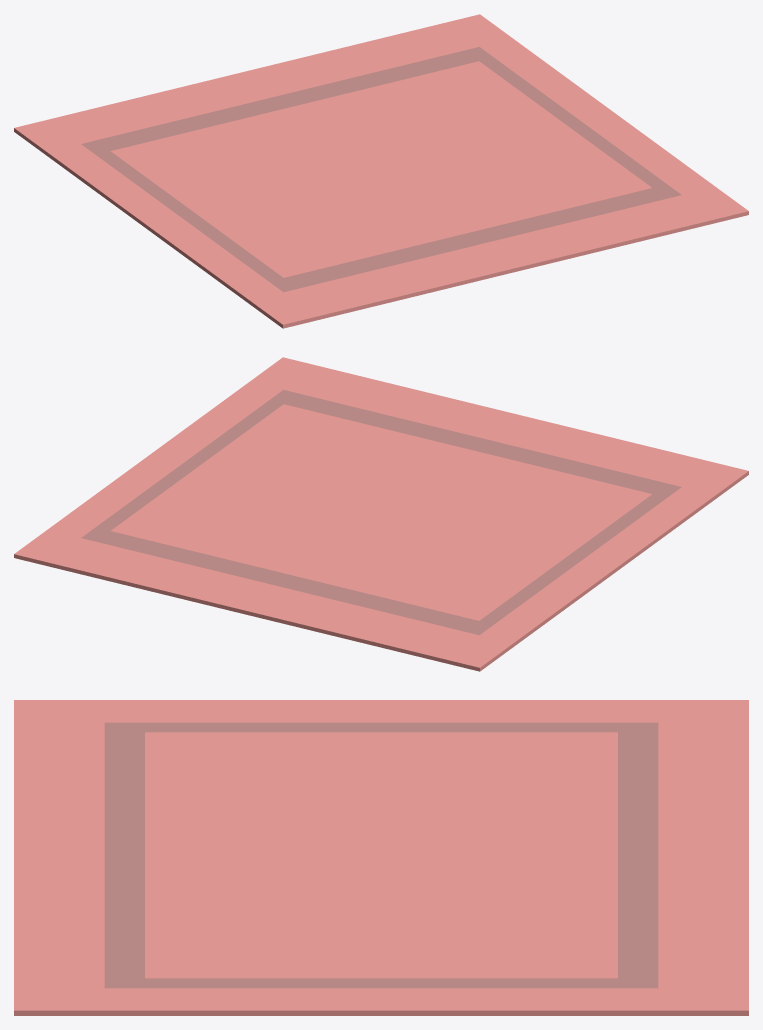
File: rug.glb
3 renders of one model, top to bottom at view 1: azimuth 30°, elevation 25°; view 2: azimuth 150°, elevation 25°; view 3: azimuth 270°, elevation 25°, orthographic. The views are drawn at different scales.
Visible parts, largest first — view 1: rugRectangle(Clone); view 2: rugRectangle(Clone); view 3: rugRectangle(Clone).
Part boxes in pixels (x1,y1,x2,y2): rugRectangle(Clone): (14, 14, 748, 328); rugRectangle(Clone): (14, 357, 748, 671); rugRectangle(Clone): (14, 700, 748, 1015).
Size of the model in its own units: 1.9 by 0.015 by 1.9.
